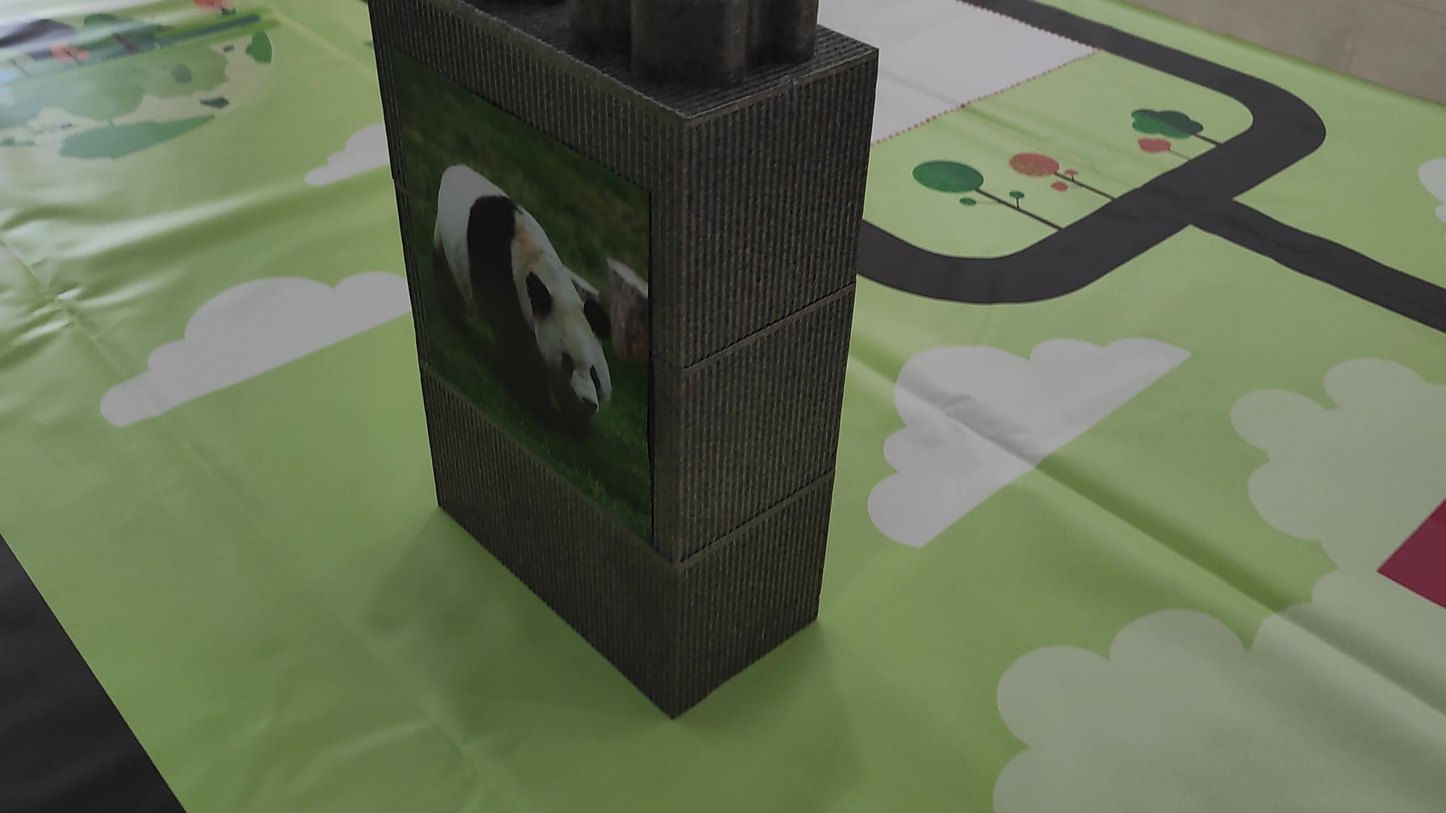panda: (407, 144, 659, 464)
